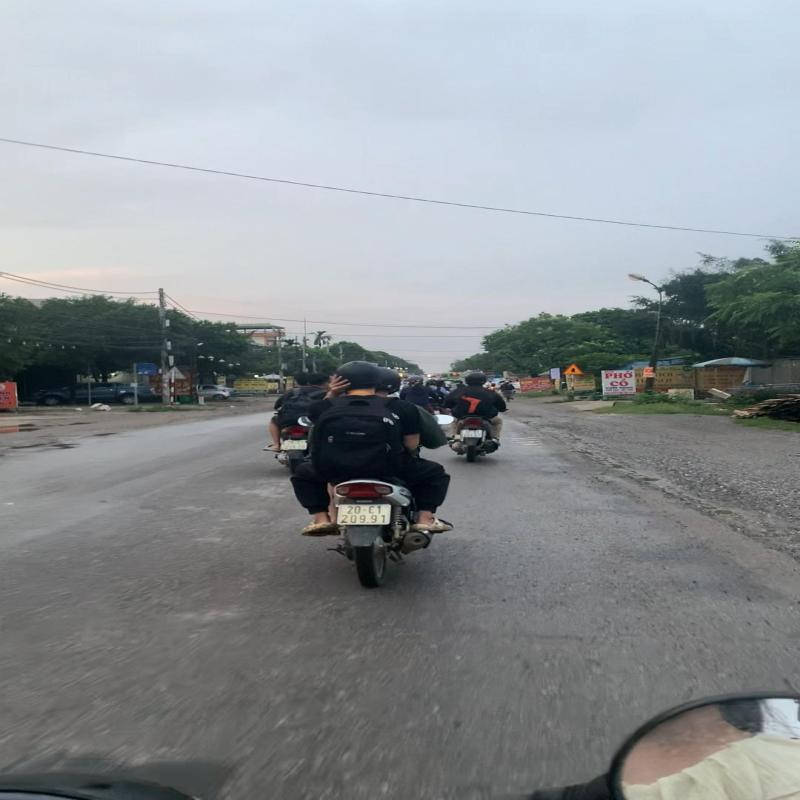helmet: (330, 359, 384, 391), (368, 368, 406, 394)
licenseplate: (334, 502, 394, 528)
motorcyclist: (289, 360, 462, 592)
nohelmet: (306, 372, 330, 386)
